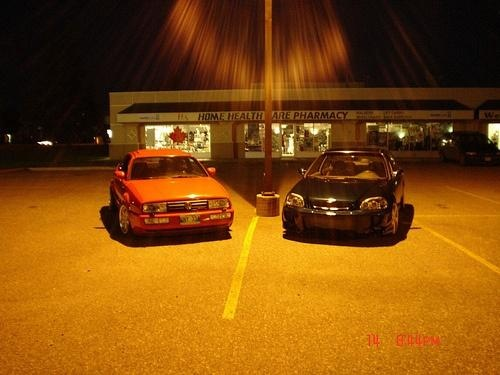car: (281, 149, 408, 240), (111, 149, 235, 239)
